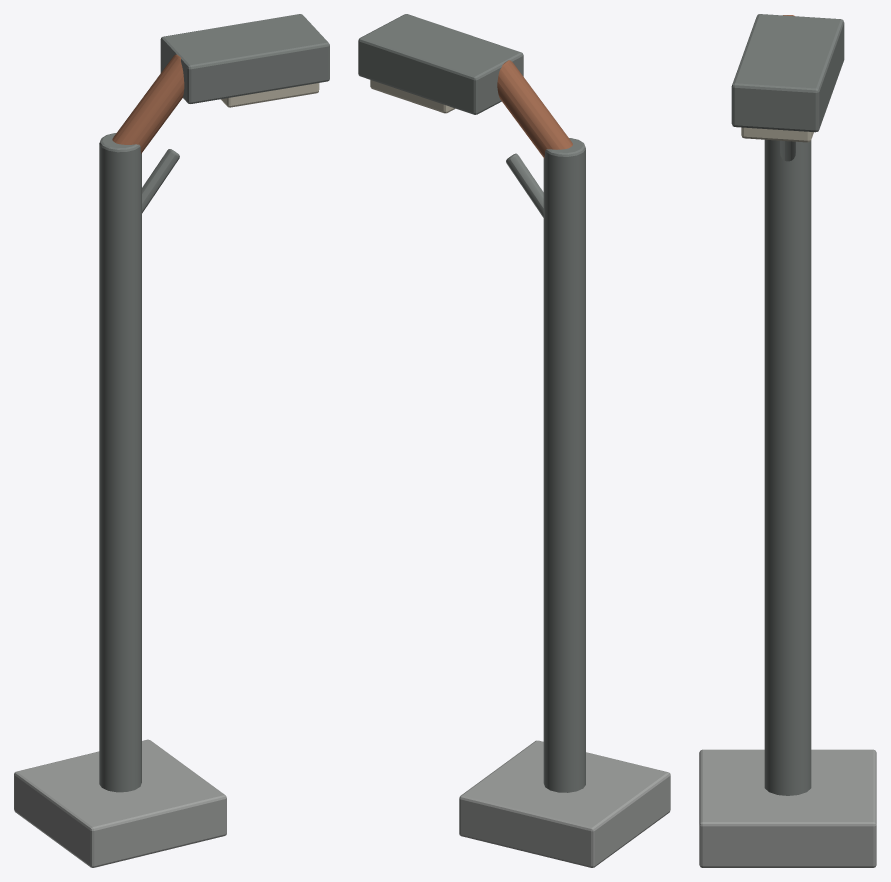
The model's file is Apoc_Prop_Broken_Streetlight.fbx.
3 views of the same model, side by side, from view 1: azimuth 30°, elevation 25°; view 2: azimuth 150°, elevation 25°; view 3: azimuth 270°, elevation 25° (orthographic). The views are drawn at different scales.
Visible parts, largest first — view 1: Apoc_Prop_Broken_Streetlight; view 2: Apoc_Prop_Broken_Streetlight; view 3: Apoc_Prop_Broken_Streetlight.
Part boxes in pixels (box(x1,y1,x2,y2)): Apoc_Prop_Broken_Streetlight: box(14, 14, 329, 867); Apoc_Prop_Broken_Streetlight: box(358, 14, 670, 867); Apoc_Prop_Broken_Streetlight: box(699, 14, 876, 867).
Size of the model in its own units: 1.35 by 3.7 by 0.7.
